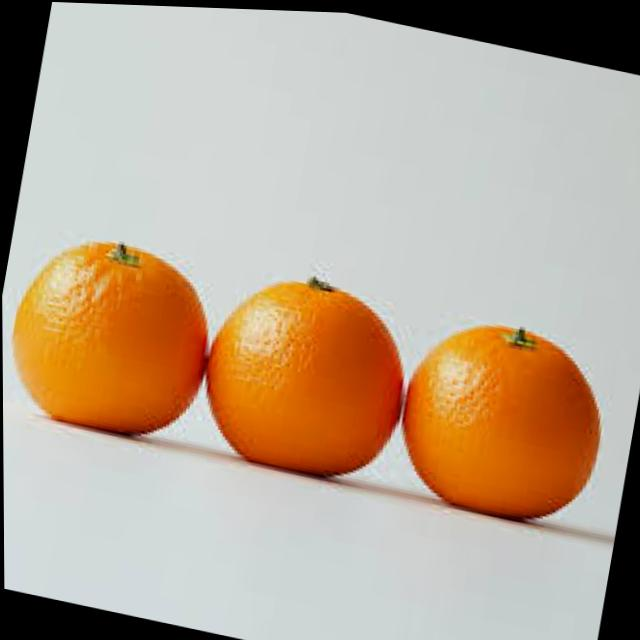orange: (386, 298, 615, 531), (191, 253, 418, 488), (1, 218, 224, 449)
